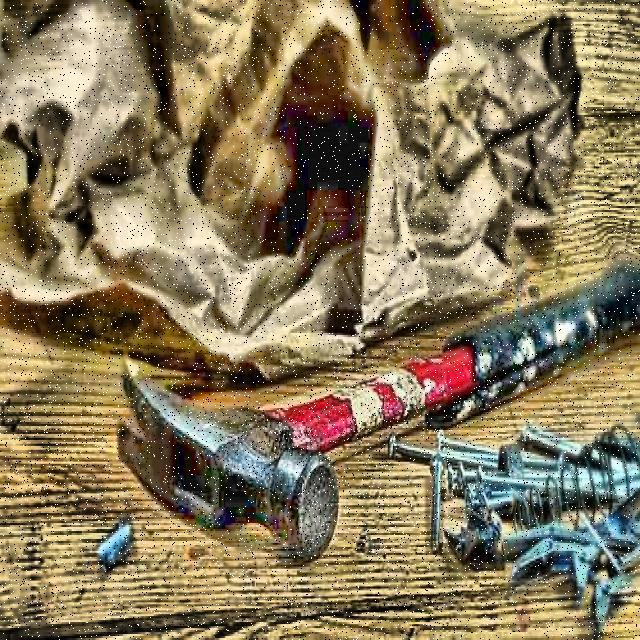hammer: (120, 258, 638, 562)
